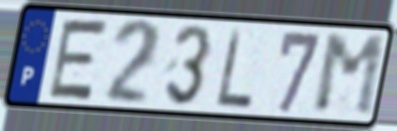2: (102, 17, 164, 107)
3: (157, 22, 217, 109)
7: (275, 27, 325, 116)
E: (44, 16, 113, 104)
L: (215, 26, 256, 111)
M: (312, 32, 388, 120)
